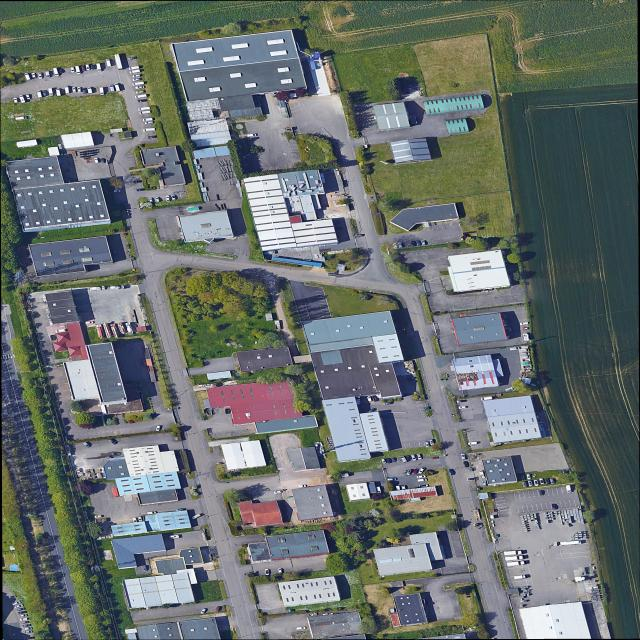large-vehicle: (553, 540, 580, 547), (102, 322, 112, 339), (114, 53, 123, 71), (110, 324, 121, 338), (95, 324, 105, 339), (505, 560, 526, 567), (503, 549, 522, 556), (116, 322, 127, 334), (504, 555, 524, 561), (125, 322, 134, 335), (88, 286, 106, 292), (106, 285, 126, 290), (513, 574, 526, 580), (128, 65, 140, 71), (192, 513, 202, 520), (128, 69, 141, 74), (132, 81, 145, 86), (138, 106, 151, 111), (18, 95, 26, 103), (52, 68, 59, 77), (479, 470, 486, 479), (114, 83, 121, 92), (15, 116, 27, 121), (481, 396, 493, 401), (135, 94, 147, 99), (143, 127, 155, 132), (139, 110, 151, 115), (566, 485, 573, 493), (96, 63, 102, 72), (75, 66, 81, 75), (24, 73, 31, 80), (48, 88, 54, 96), (246, 133, 257, 137), (142, 118, 153, 122), (106, 59, 112, 66), (109, 85, 115, 92), (87, 87, 93, 94), (55, 89, 61, 96), (36, 91, 42, 98), (45, 71, 51, 77), (99, 88, 104, 95), (65, 86, 70, 93), (376, 486, 381, 493)
small-vehicle: (522, 333, 530, 342), (399, 455, 408, 463), (107, 438, 117, 445), (13, 604, 25, 609), (418, 467, 426, 474), (84, 320, 95, 325), (11, 601, 22, 606), (519, 321, 530, 326), (386, 477, 397, 482), (82, 442, 91, 448), (17, 610, 27, 615), (16, 607, 26, 612), (7, 594, 17, 599), (80, 65, 87, 72), (371, 395, 378, 402), (200, 608, 208, 614), (368, 408, 376, 414), (128, 56, 137, 61), (137, 99, 148, 103), (135, 90, 146, 94), (146, 511, 157, 515), (55, 329, 66, 333), (295, 626, 306, 630), (456, 400, 467, 404), (155, 425, 162, 431), (142, 565, 149, 571), (417, 453, 423, 460), (411, 454, 417, 461), (528, 480, 534, 487), (534, 479, 540, 486), (545, 478, 551, 485), (398, 242, 404, 249), (463, 461, 469, 468), (406, 469, 412, 476), (424, 441, 431, 447), (366, 396, 373, 402), (135, 85, 145, 89), (131, 74, 141, 78), (520, 352, 530, 356), (136, 188, 146, 192), (520, 355, 530, 359), (510, 347, 520, 351), (560, 470, 570, 474), (407, 376, 417, 380), (521, 358, 531, 362), (247, 137, 257, 141), (23, 627, 33, 631), (22, 624, 32, 628), (468, 441, 478, 445), (418, 478, 428, 482), (416, 475, 426, 479), (383, 401, 393, 405), (93, 157, 99, 163), (132, 78, 141, 82), (90, 64, 96, 70), (165, 196, 171, 202), (42, 90, 48, 96), (176, 508, 185, 512), (413, 468, 419, 474), (551, 504, 557, 510), (538, 490, 544, 496), (522, 481, 528, 487), (550, 478, 556, 484), (273, 490, 282, 494), (448, 469, 454, 475), (215, 606, 221, 612), (27, 636, 36, 640), (24, 630, 33, 634), (21, 621, 30, 625), (19, 617, 28, 621), (19, 614, 28, 618), (421, 240, 427, 246), (381, 458, 387, 464), (457, 406, 469, 409), (225, 408, 230, 415), (539, 478, 544, 485), (521, 474, 526, 481), (411, 240, 416, 247), (461, 453, 466, 460), (132, 180, 143, 183), (82, 88, 87, 94), (85, 64, 90, 70), (31, 73, 36, 79), (77, 87, 82, 93), (71, 87, 76, 93), (111, 452, 121, 455), (50, 335, 55, 341), (148, 197, 153, 203), (171, 195, 176, 201), (155, 197, 160, 203), (26, 94, 31, 100), (519, 349, 529, 352), (419, 484, 429, 487), (401, 485, 407, 490), (386, 458, 391, 464), (265, 569, 270, 575), (115, 201, 125, 204), (416, 240, 421, 246), (355, 234, 365, 237), (138, 516, 143, 522), (459, 236, 465, 241), (147, 136, 156, 139), (145, 121, 154, 124), (409, 380, 418, 383), (467, 478, 476, 481), (93, 515, 102, 518), (100, 158, 105, 163), (13, 98, 18, 103), (133, 517, 138, 522), (38, 73, 42, 79), (71, 67, 75, 73), (113, 190, 121, 193), (392, 457, 396, 463), (483, 480, 487, 486), (527, 474, 531, 480), (521, 327, 529, 330), (298, 485, 306, 488), (278, 568, 282, 574), (394, 243, 398, 249), (432, 456, 439, 459), (59, 69, 63, 74), (406, 455, 410, 460), (77, 469, 81, 473), (73, 278, 78, 281)
